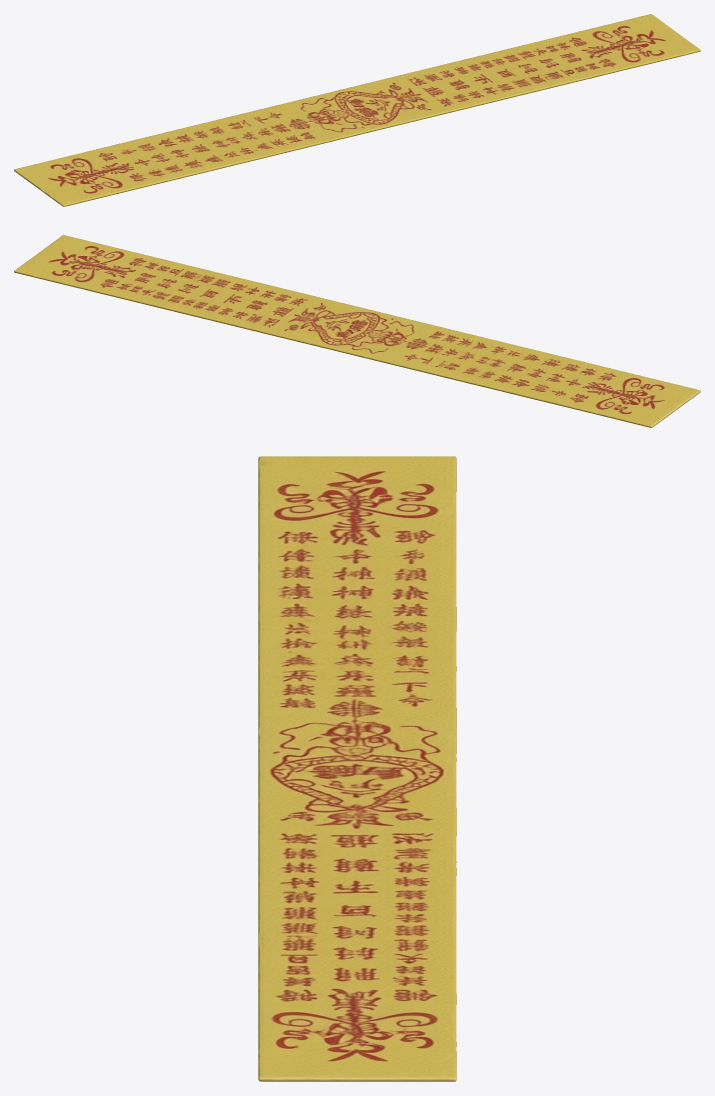
The model's file is Meshy_AI_Yellow_Talisman_Banne_1015060943_texture.fbx.
3 views of the same model, one above another, from view 1: azimuth 30°, elevation 25°; view 2: azimuth 150°, elevation 25°; view 3: azimuth 270°, elevation 25° (orthographic). The views are drawn at different scales.
Visible parts, largest first — view 1: Mesh_0; view 2: Mesh_0; view 3: Mesh_0.
Part boxes in pixels (x1=…): Mesh_0: x1=14, y1=14, x2=700, y2=206; Mesh_0: x1=14, y1=235, x2=700, y2=427; Mesh_0: x1=258, y1=456, x2=456, y2=1081.
Size of the model in its own units: 190 by 0.6524 by 25.56.
Materials: 1 (1 with a texture image).
